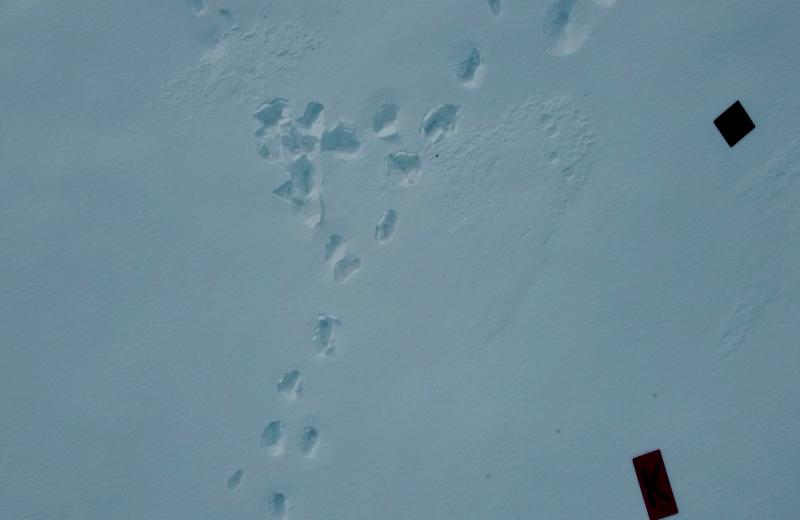Rectangle: (630, 448, 678, 520)
Square: (713, 98, 753, 149)
